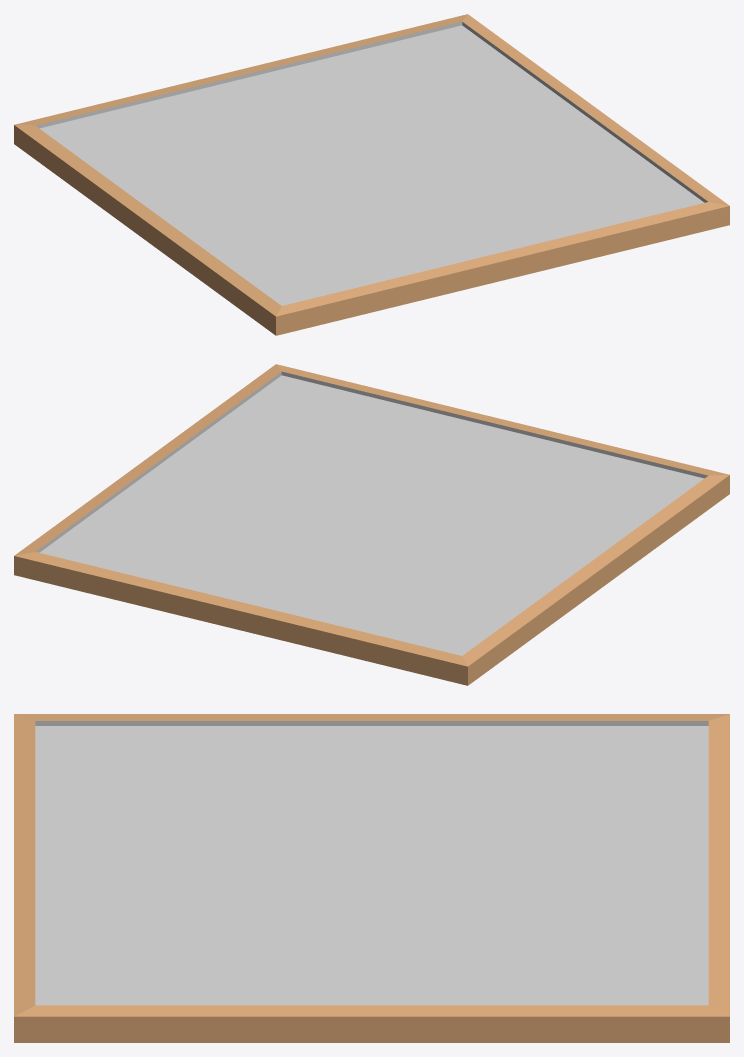
Rendered from glass.fbx.
3 views of the same model, one above another, from view 1: azimuth 30°, elevation 25°; view 2: azimuth 150°, elevation 25°; view 3: azimuth 270°, elevation 25° (orthographic). The views are drawn at different scales.
Parts seen in each view (by area): view 1: Cube; view 2: Cube; view 3: Cube.
Part boxes in pixels (x1=…): Cube: x1=14, y1=14, x2=729, y2=335; Cube: x1=14, y1=364, x2=729, y2=685; Cube: x1=14, y1=714, x2=729, y2=1042.
Size of the model in its own units: 213 by 10.05 by 213.
